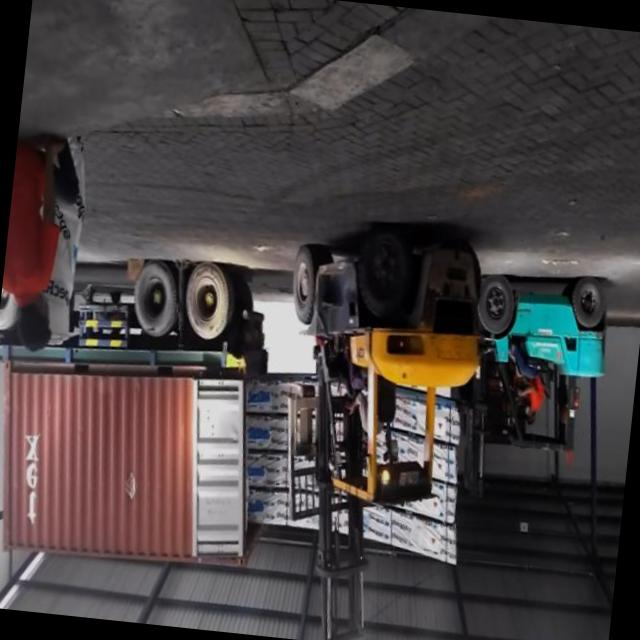driver: (502, 336, 556, 427), (337, 367, 386, 458)
forklift: (244, 204, 517, 546), (460, 260, 634, 468)
person: (0, 127, 107, 366)
